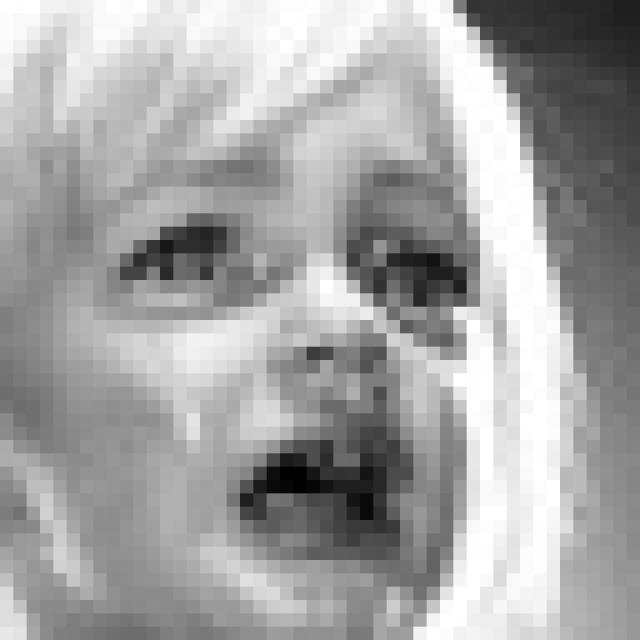sad: (90, 152, 480, 577)
